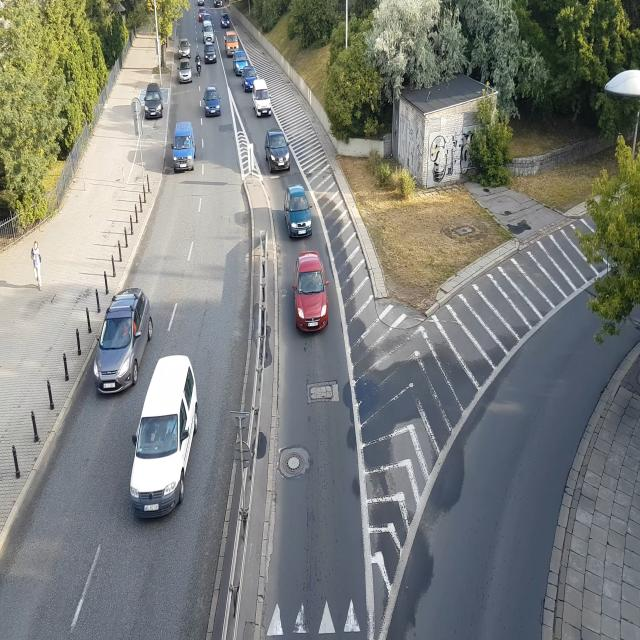car: (129, 354, 199, 520), (93, 289, 152, 396), (294, 252, 330, 332), (286, 187, 312, 240), (172, 122, 196, 174), (263, 130, 291, 174), (143, 85, 165, 119), (253, 83, 274, 117), (202, 90, 222, 115), (177, 33, 191, 59), (203, 18, 214, 46), (226, 34, 240, 55), (179, 66, 193, 82), (203, 47, 215, 64), (221, 16, 232, 29), (212, 0, 223, 11), (196, 0, 206, 8)
motorcycle: (196, 48, 203, 80)
